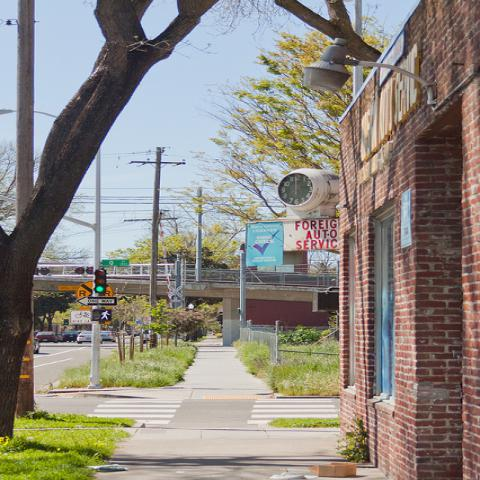car: (76, 332, 103, 344), (35, 332, 59, 344), (100, 331, 117, 342), (62, 332, 80, 342), (140, 328, 153, 337), (34, 338, 40, 354)
